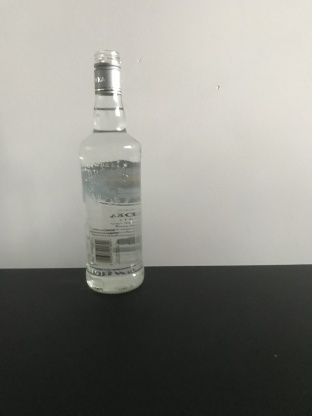nakretka: (92, 50, 122, 95)
